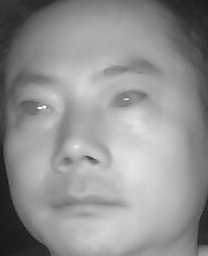eye: (108, 89, 148, 112), (16, 96, 52, 117)
mouth: (48, 183, 122, 221)
